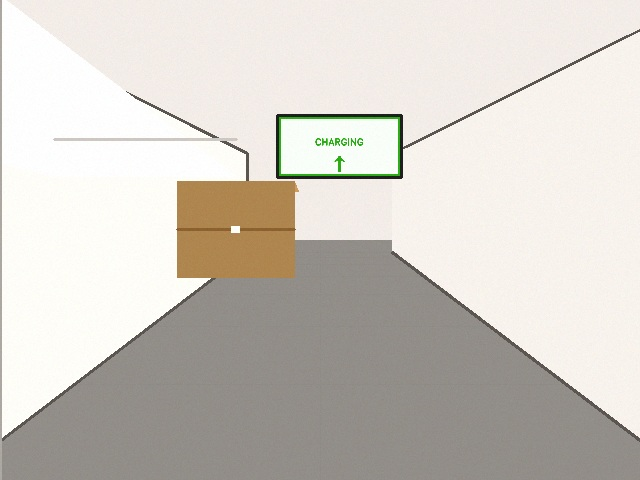box: (177, 181, 298, 277)
directional_sign: (277, 115, 401, 177)
hospital_bed: (0, 0, 236, 479)
